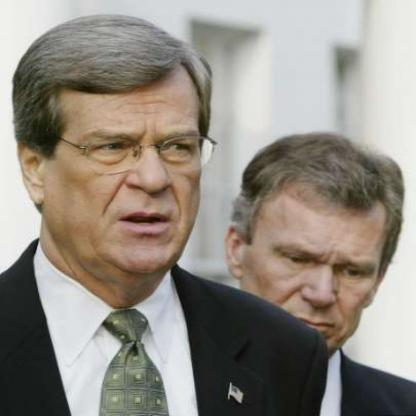face: (36, 23, 217, 279), (246, 147, 386, 363)
